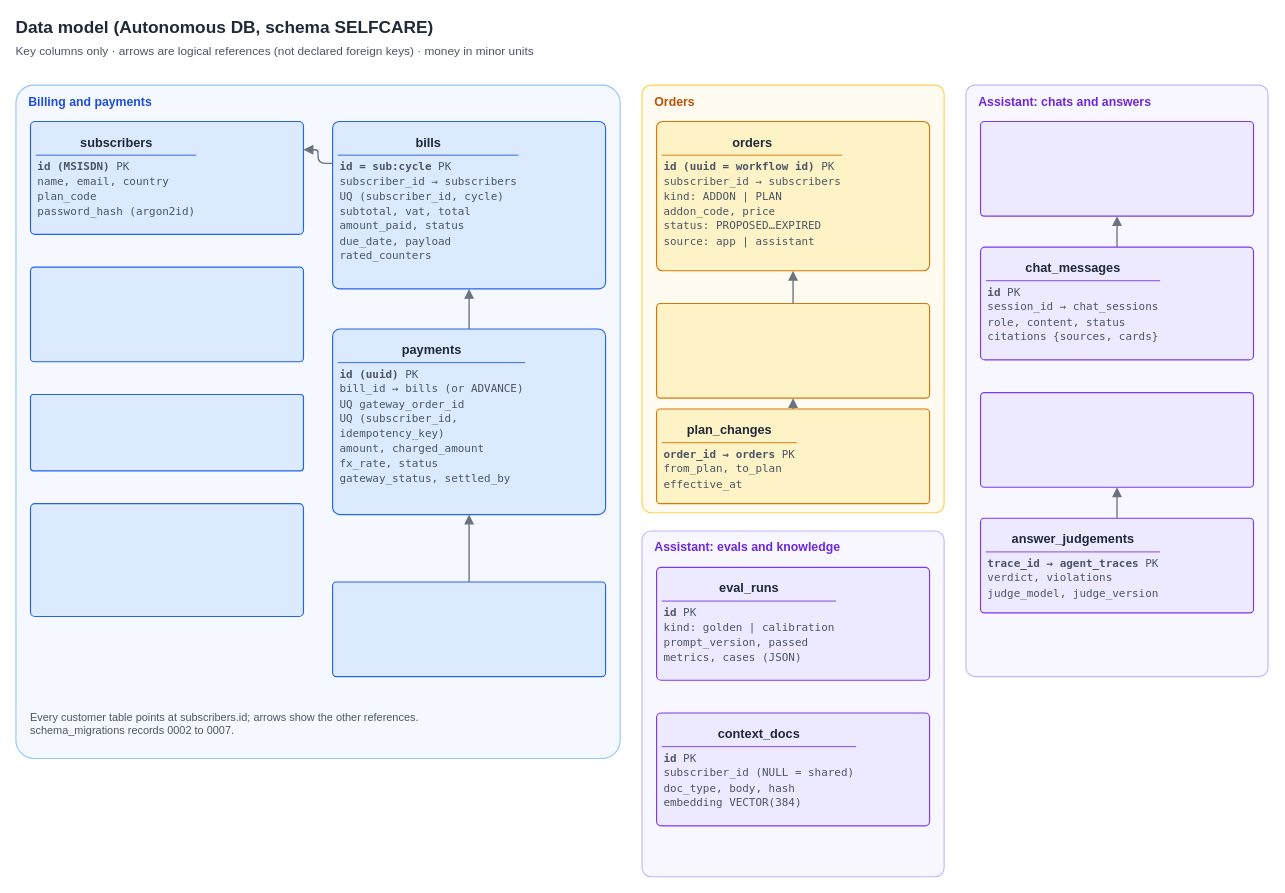
The diagram is 1285 pixels wide and 893 high, and some of its shapes have lost their labels. The centre of each missing label's shape, as x and y in pixels:
"agent_traces id (uuid) PK question, answer, status trace (JSON), cost_usd" belongs at (1117,439).
"bill_payments payment_id → payments PK bill_id → bills amount, applied_at" belongs at (469,629).
"bss_orders id PK UQ order_id → orders status, reason" belongs at (793,350).
"chat_sessions id PK subscriber_id → subscribers title, turns, updated_at" belongs at (1117,168).
"explanations cache_key (sha256) PK cycle, provider, text" belongs at (166,432).
"notifications id PK UQ alert_id kind, title, body, read_at" belongs at (166,314).
"outbox id PK topic: payment-/order-events event_key, payload published_at" belongs at (166,560).
